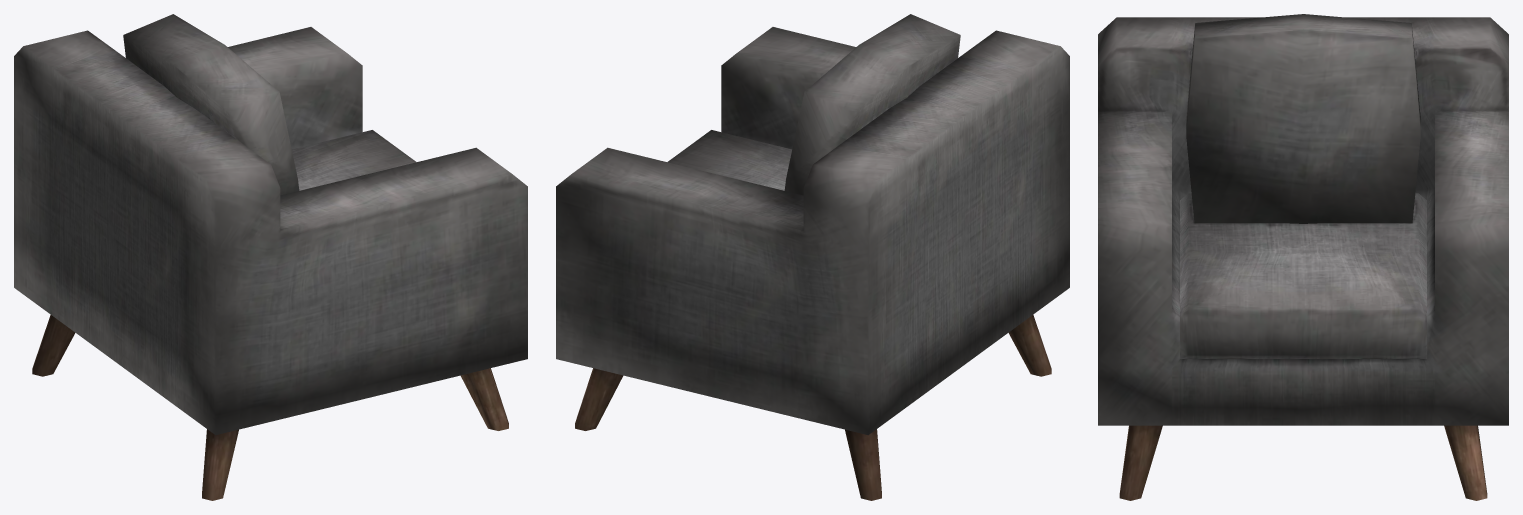
The model's file is armchair02.glb.
The picture shows the model from 3 angles, left to right: view 1: azimuth 30°, elevation 25°; view 2: azimuth 150°, elevation 25°; view 3: azimuth 270°, elevation 25°; orthographic projection.
Parts seen in each view (by area): view 1: armchair02; view 2: armchair02; view 3: armchair02.
Part boxes in pixels (x1,y1,x2,y2): armchair02: [14, 14, 527, 500]; armchair02: [556, 14, 1069, 500]; armchair02: [1098, 14, 1508, 500].
Bounding box in the file's own units: 0.701 × 0.7779 × 0.7787.
Materials: 1 (1 with a texture image).
